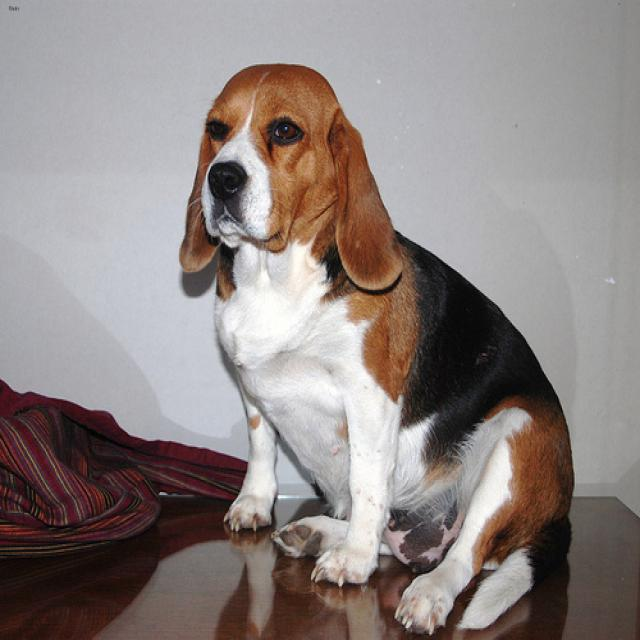dog-beagle: (165, 54, 584, 637)
